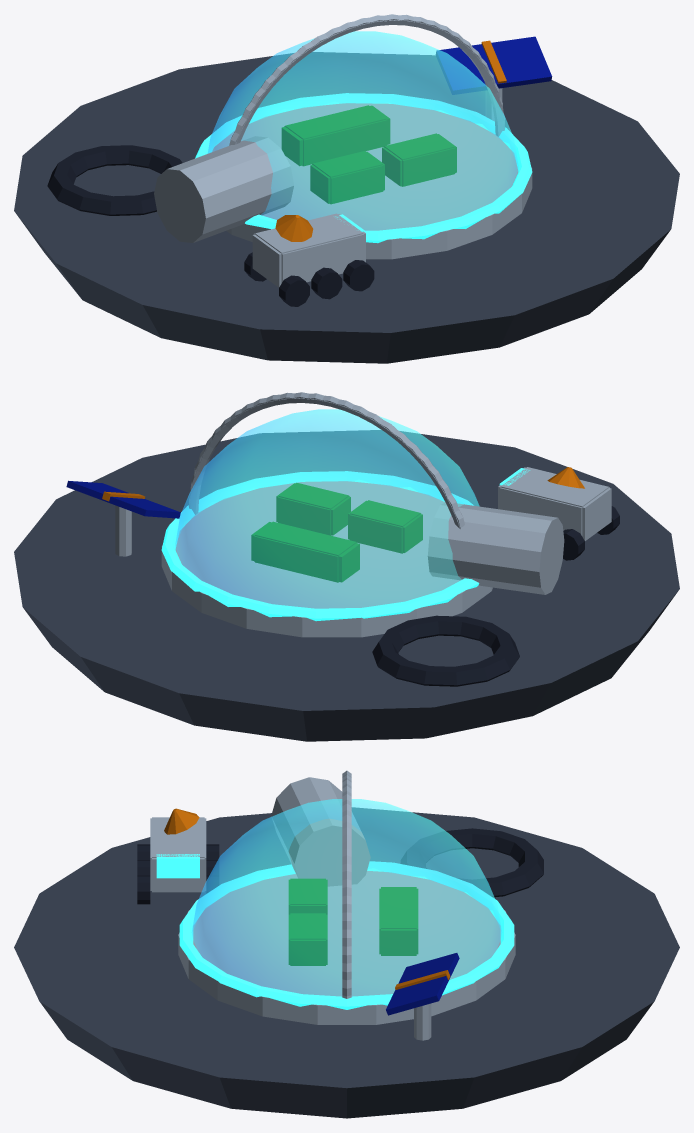
Rendered from lunar_biodome_base.glb.
The picture shows the model from 3 angles, top to bottom: view 1: azimuth 30°, elevation 25°; view 2: azimuth 150°, elevation 25°; view 3: azimuth 270°, elevation 25°; orthographic projection.
Parts seen in each view (by area): view 1: LunarBiodomeBase, LunarDomeGlass; view 2: LunarBiodomeBase, LunarDomeGlass; view 3: LunarBiodomeBase, LunarDomeGlass.
Boxes of the visible parts, x1,y1,x2,y2 form: LunarBiodomeBase: [14, 14, 679, 363]; LunarDomeGlass: [208, 31, 518, 230]; LunarBiodomeBase: [14, 392, 679, 741]; LunarDomeGlass: [175, 409, 479, 608]; LunarBiodomeBase: [14, 770, 679, 1118]; LunarDomeGlass: [191, 799, 502, 996].
Bounding box in the file's own units: 3.08 × 1.52 × 3.08.
